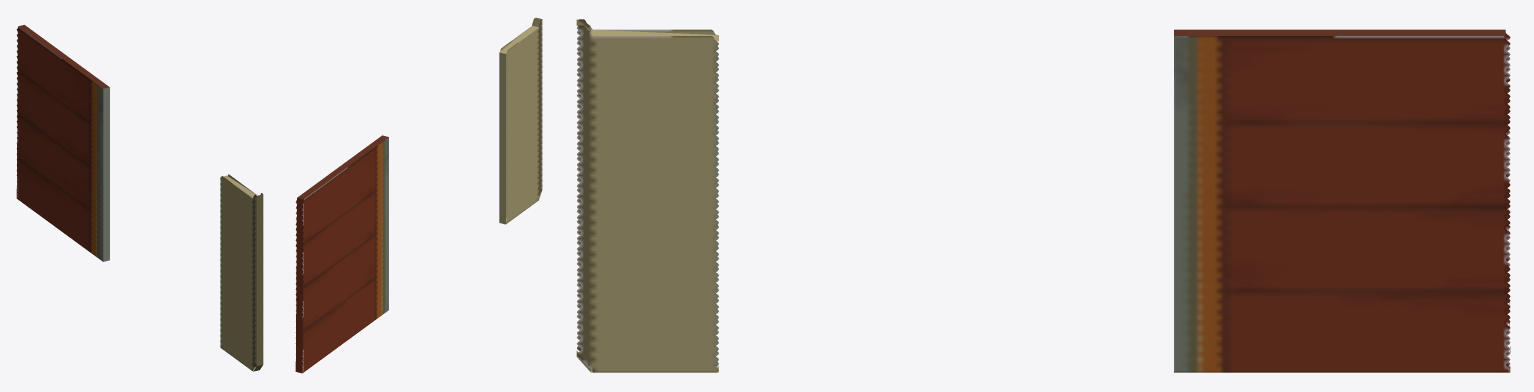
The model's file is pz_native_location_restaurant_spiffos_01_12_frame.obj.
The picture shows the model from 3 angles, left to right: view 1: azimuth 30°, elevation 25°; view 2: azimuth 150°, elevation 25°; view 3: azimuth 270°, elevation 25°; orthographic projection. The views are drawn at different scales.
Visible parts, largest first — view 1: pz_native_location_restaurant_spiffos_01_12_frame; view 2: pz_native_location_restaurant_spiffos_01_12_frame; view 3: pz_native_location_restaurant_spiffos_01_12_frame.
Boxes of the visible parts, x1,y1,x2,y2 form: pz_native_location_restaurant_spiffos_01_12_frame: (16,25,263,371); pz_native_location_restaurant_spiffos_01_12_frame: (295,17,542,373); pz_native_location_restaurant_spiffos_01_12_frame: (576,19,1510,372).
Bounding box in the file's own units: 0.04 × 1.06 × 2.55.
Materials: 1 (1 with a texture image).
